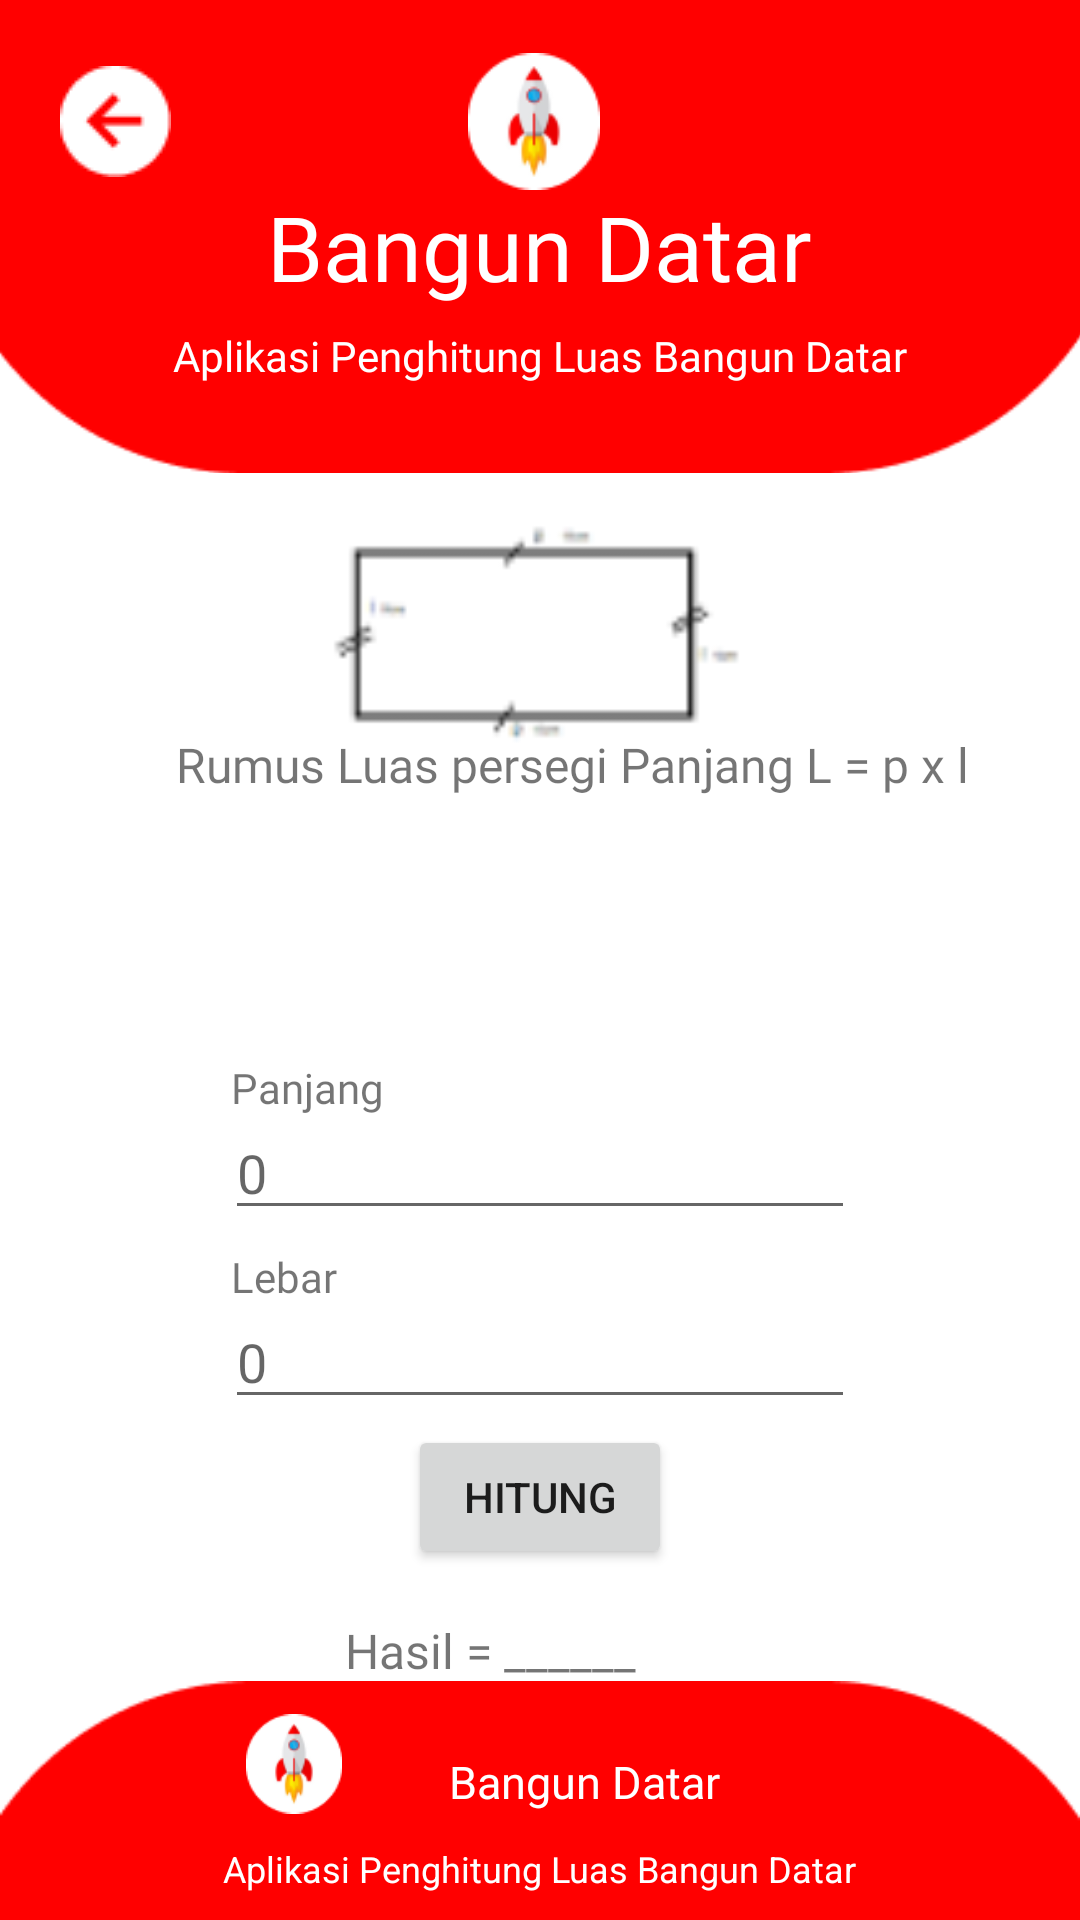

Icons on this 1080*1920 Android screen, each with the point to tap as (x=x, y=y):
back: (x=115, y=121)
roket: (x=534, y=121), (x=294, y=1764)
